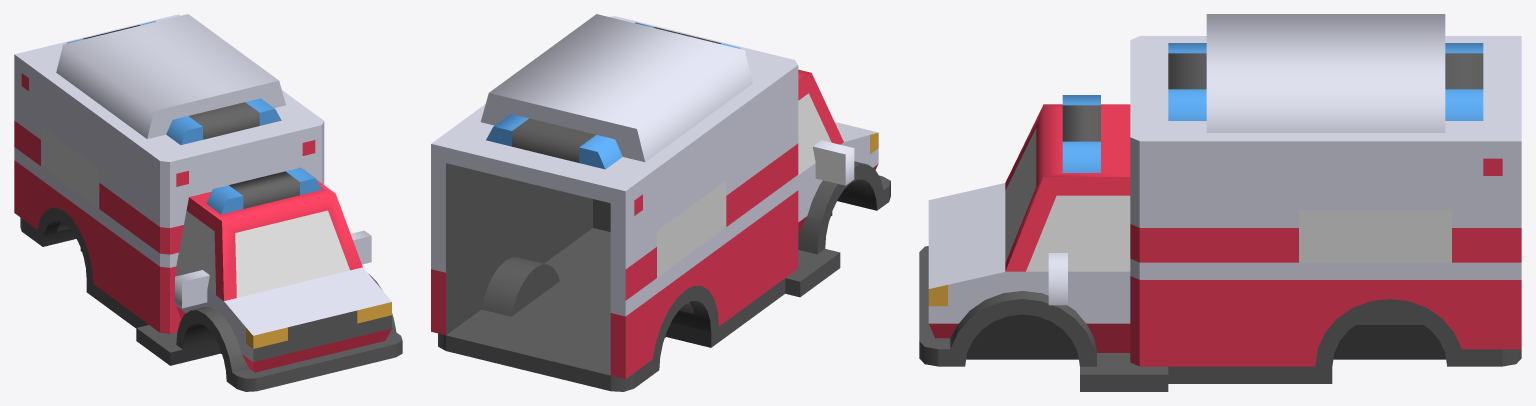
The model's file is ambulance.fbx.
3 views of the same model, side by side, from view 1: azimuth 30°, elevation 25°; view 2: azimuth 150°, elevation 25°; view 3: azimuth 270°, elevation 25° (orthographic). The views are drawn at different scales.
Visible parts, largest first — view 1: body; view 2: body; view 3: body.
Boxes of the visible parts, x1,y1,x2,y2 form: body: (14,14,402,391); body: (431,14,890,391); body: (919,14,1521,391).
Size of the model in its own units: 1.5 by 1.6 by 3.15.
